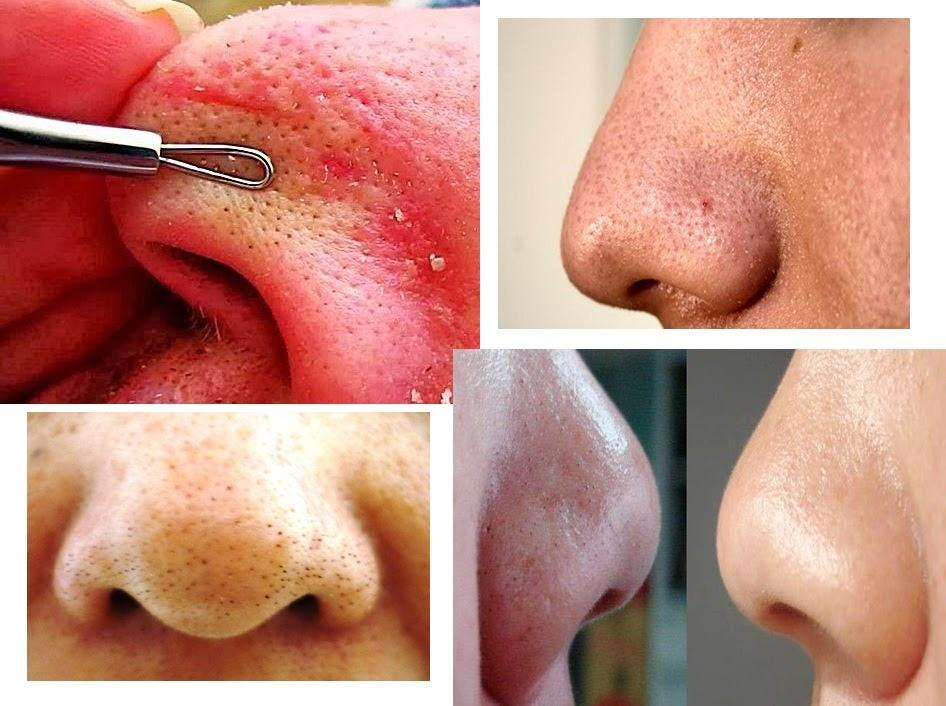Acne: (135, 0, 461, 351), (29, 433, 410, 675), (563, 61, 835, 327), (480, 364, 653, 692)
